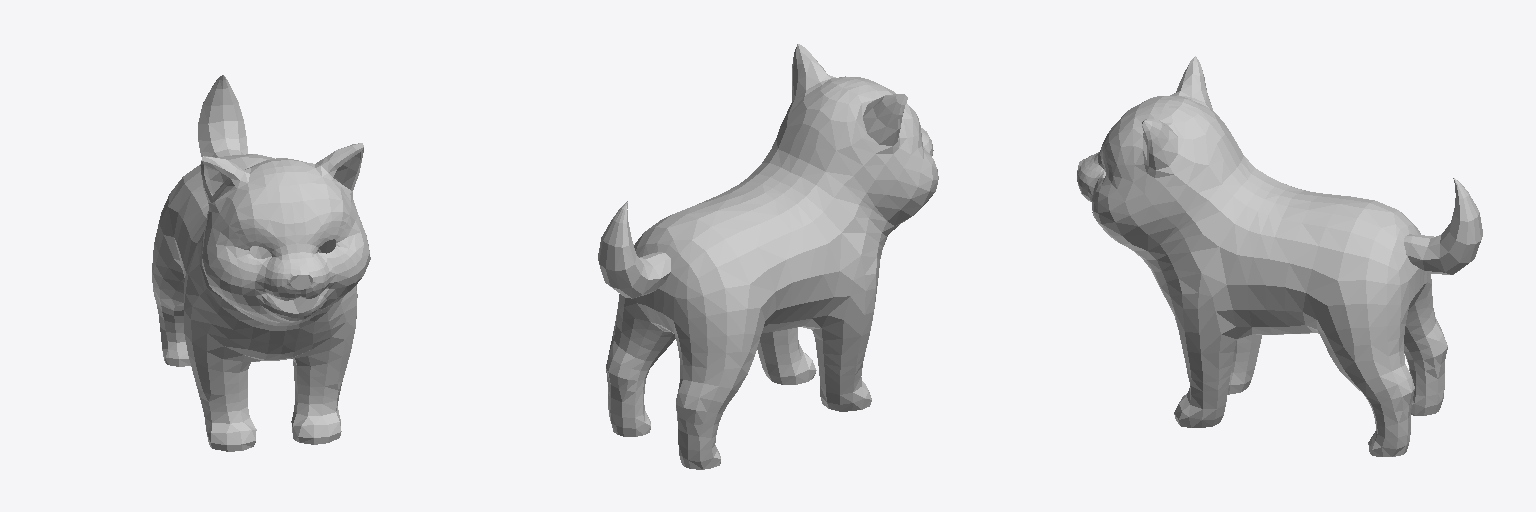
File: PuppyS.obj
3 views of the same model, side by side, from view 1: azimuth 30°, elevation 25°; view 2: azimuth 150°, elevation 25°; view 3: azimuth 270°, elevation 25° (orthographic).
Visible parts, largest first — view 1: 0001_Shiba_SKEL; view 2: 0001_Shiba_SKEL; view 3: 0001_Shiba_SKEL.
Part boxes in pixels (left/top/right/bottom): 0001_Shiba_SKEL: left=152, top=75, right=370, bottom=451; 0001_Shiba_SKEL: left=598, top=44, right=938, bottom=469; 0001_Shiba_SKEL: left=1077, top=56, right=1482, bottom=456.
Size of the model in its own units: 2.95 by 4.1 by 4.91.